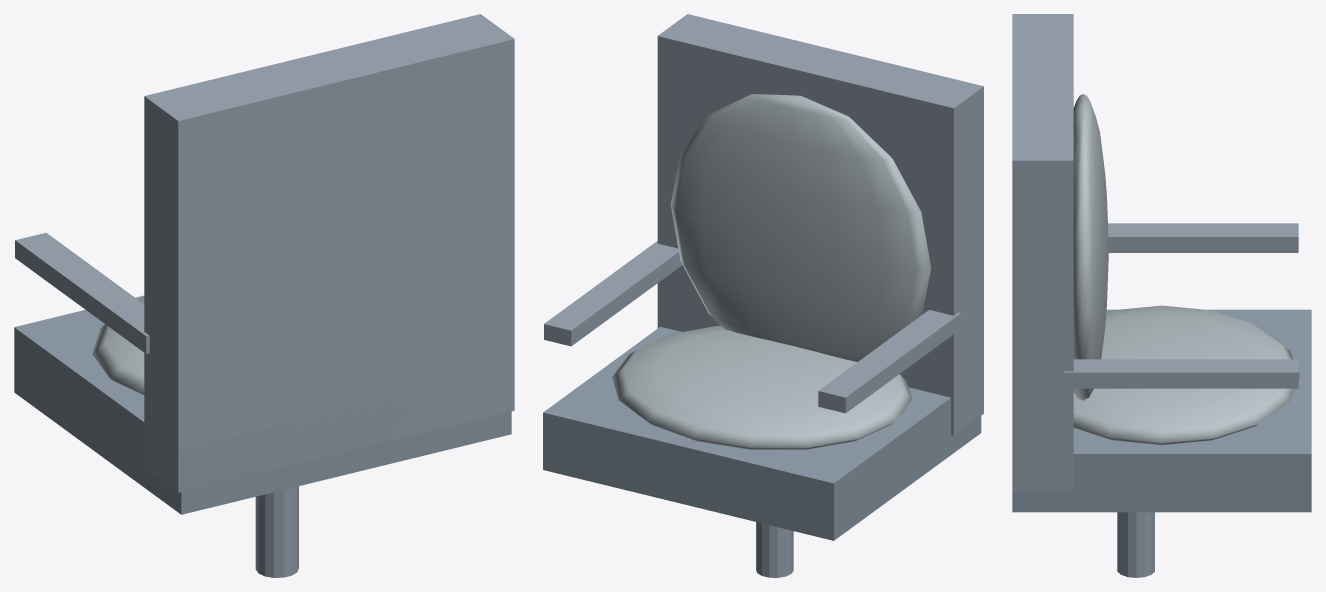
File: chair-low.gltf
3 renders of one model, left to right at view 1: azimuth 30°, elevation 25°; view 2: azimuth 150°, elevation 25°; view 3: azimuth 270°, elevation 25°, orthographic. The views are drawn at different scales.
Parts seen in each view (by area): view 1: Back frame, Ergonomic seat, Armrest, Chair center column, Seat cushion; view 2: Back cushion, Back frame, Ergonomic seat, Seat cushion, Armrest (×2), Chair center column; view 3: Back frame, Ergonomic seat, Seat cushion, Armrest (×2), Back cushion, Chair center column.
Boxes of the visible parts, left/top/right/bottom form: Back frame: left=144, top=14, right=514, bottom=492; Ergonomic seat: left=14, top=295, right=511, bottom=514; Armrest: left=15, top=232, right=149, bottom=354; Chair center column: left=255, top=486, right=298, bottom=577; Seat cushion: left=92, top=296, right=144, bottom=395; Back cushion: left=670, top=94, right=931, bottom=361; Back frame: left=657, top=14, right=983, bottom=435; Ergonomic seat: left=543, top=326, right=981, bottom=540; Seat cushion: left=612, top=326, right=912, bottom=449; Armrest (×2): left=544, top=241, right=961, bottom=413; Chair center column: left=756, top=522, right=793, bottom=577; Back frame: left=1012, top=14, right=1073, bottom=492; Ergonomic seat: left=1012, top=309, right=1311, bottom=512; Seat cushion: left=1073, top=305, right=1299, bottom=444; Armrest (×2): left=1064, top=223, right=1298, bottom=388; Back cushion: left=1073, top=94, right=1108, bottom=400; Chair center column: left=1117, top=512, right=1154, bottom=577.
Size of the model in its own units: 1.1 by 1.66 by 0.93.
